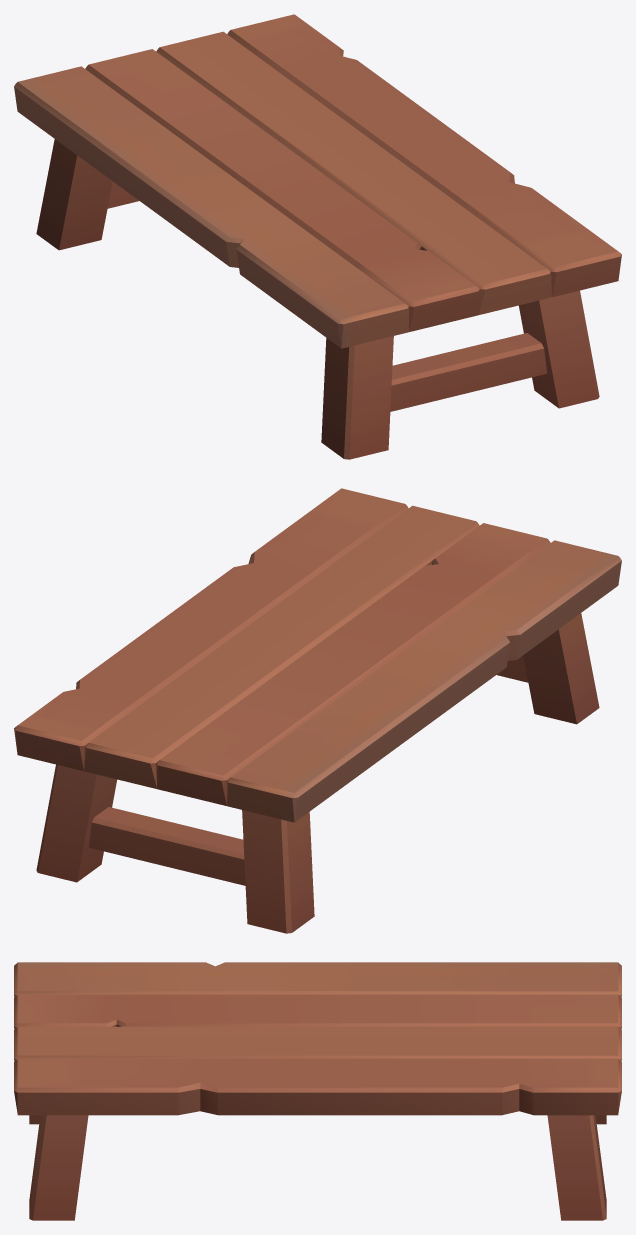
The model's file is table_long.glb.
3 renders of one model, top to bottom at view 1: azimuth 30°, elevation 25°; view 2: azimuth 150°, elevation 25°; view 3: azimuth 270°, elevation 25°, orthographic. The views are drawn at different scales.
Parts seen in each view (by area): view 1: table_long; view 2: table_long; view 3: table_long.
Boxes of the visible parts, <box> form: table_long: <box>14,14,621,459</box>; table_long: <box>14,488,621,933</box>; table_long: <box>14,962,621,1220</box>.
Size of the model in its own units: 2 by 1 by 4.
Materials: 1 (1 with a texture image).
